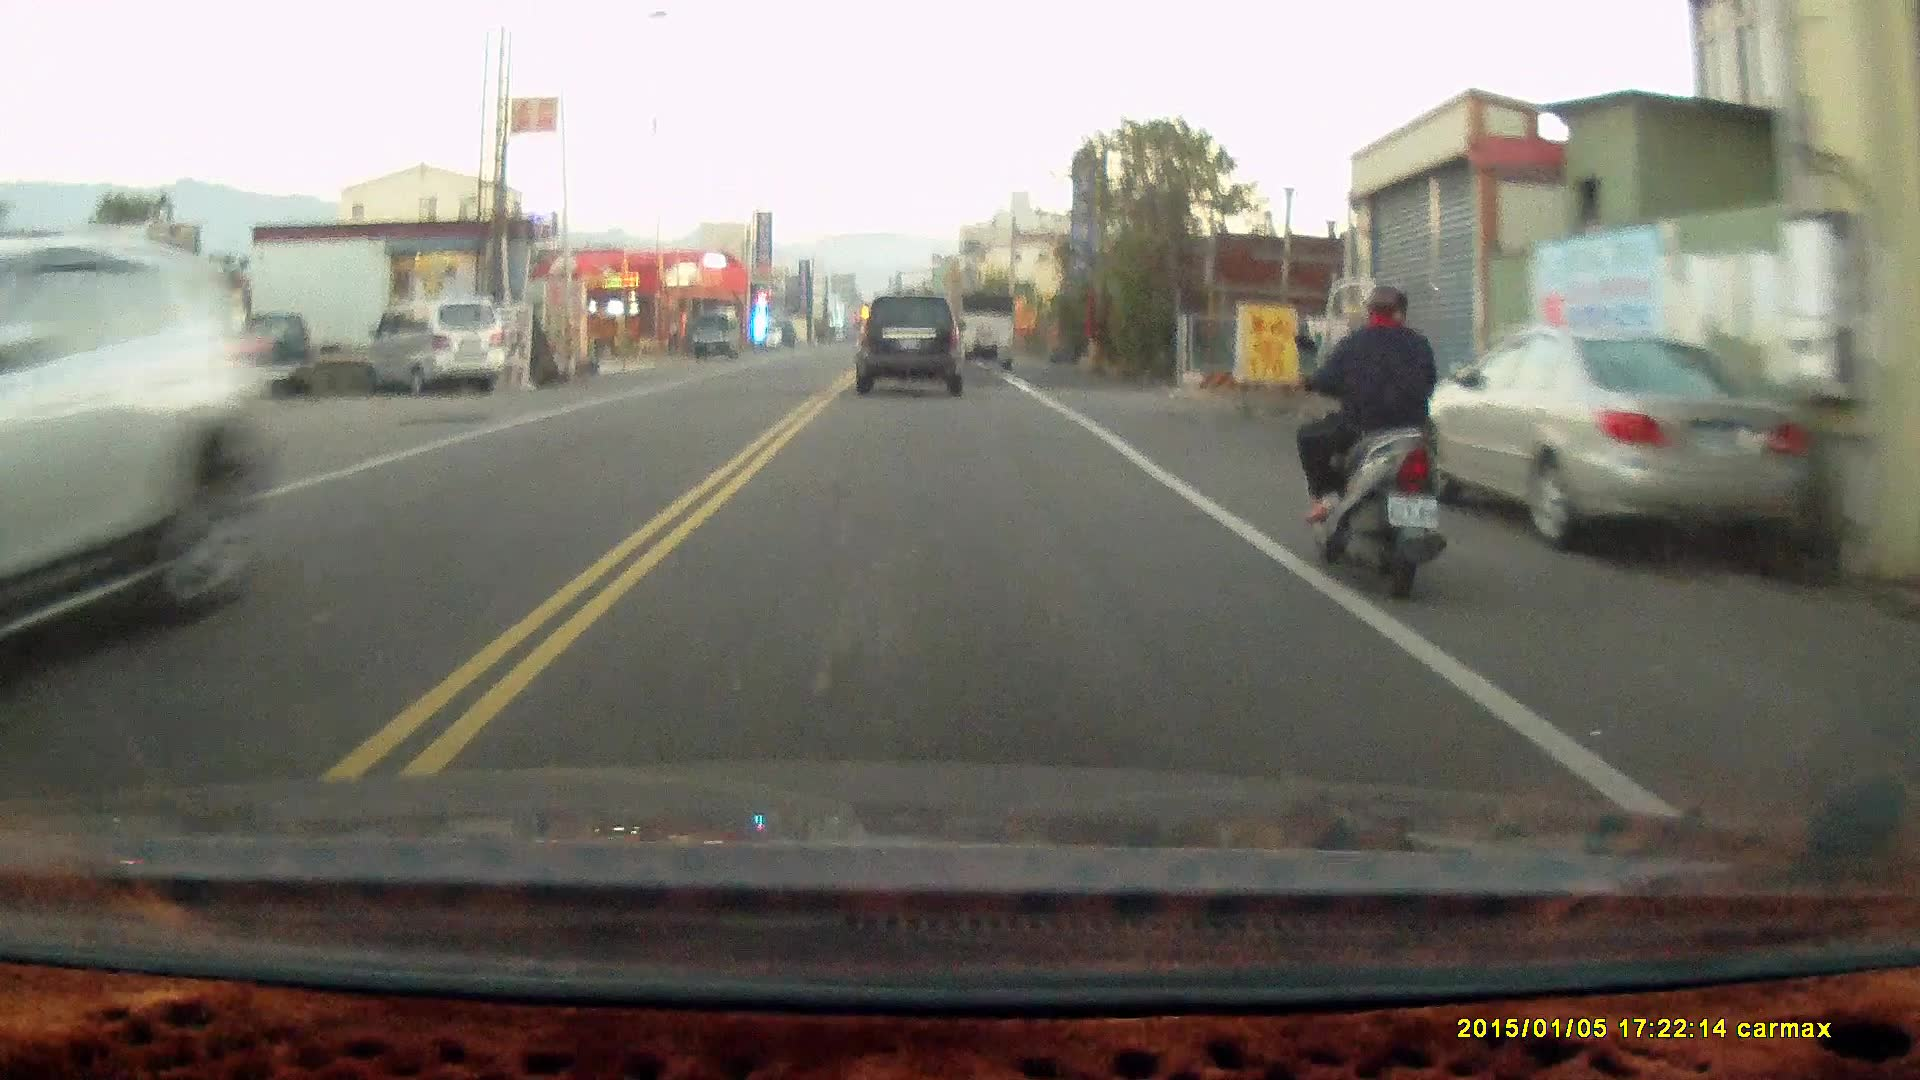rider: (1292, 266, 1447, 587)
vehicle: (1, 226, 283, 696), (1400, 321, 1827, 553), (368, 300, 508, 399), (854, 291, 972, 397), (235, 312, 315, 399), (957, 292, 1019, 371)
